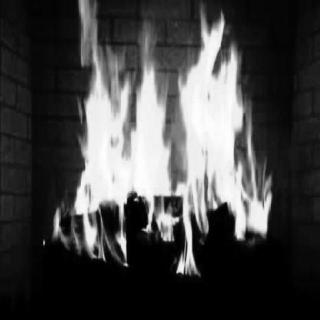Fire: (41, 0, 289, 278)
